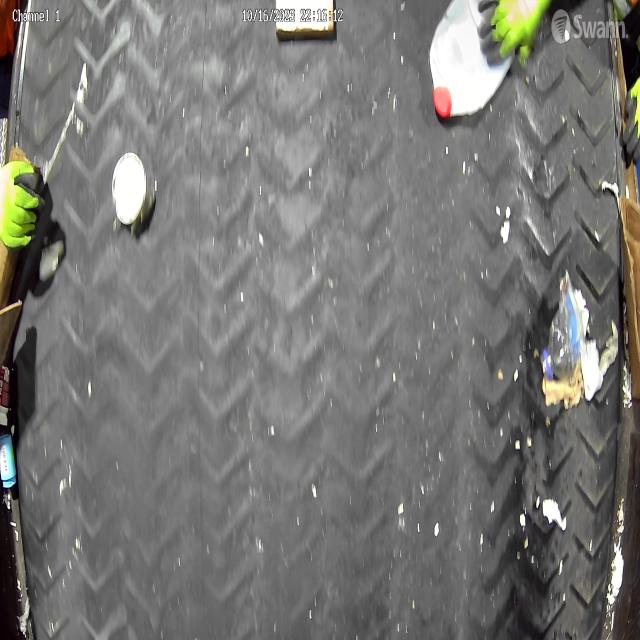can: (112, 152, 155, 225)
milk_jug: (429, 0, 515, 118)
plastic_bottle: (539, 284, 586, 378)
